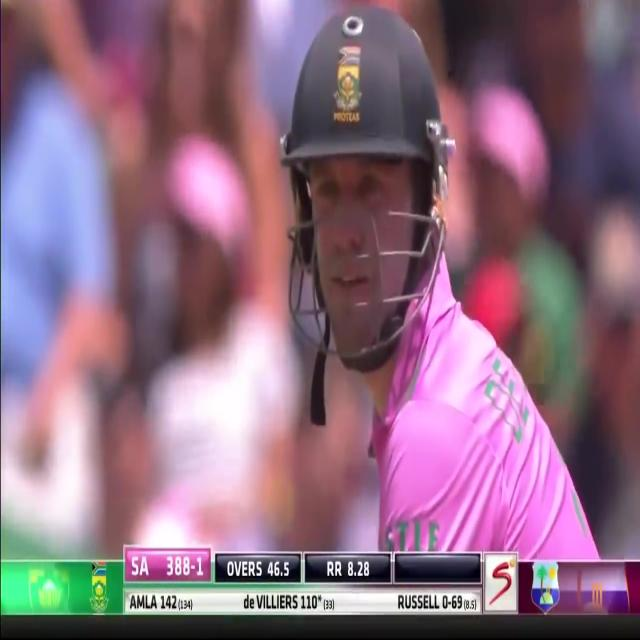Ball: (355, 3, 588, 559)
